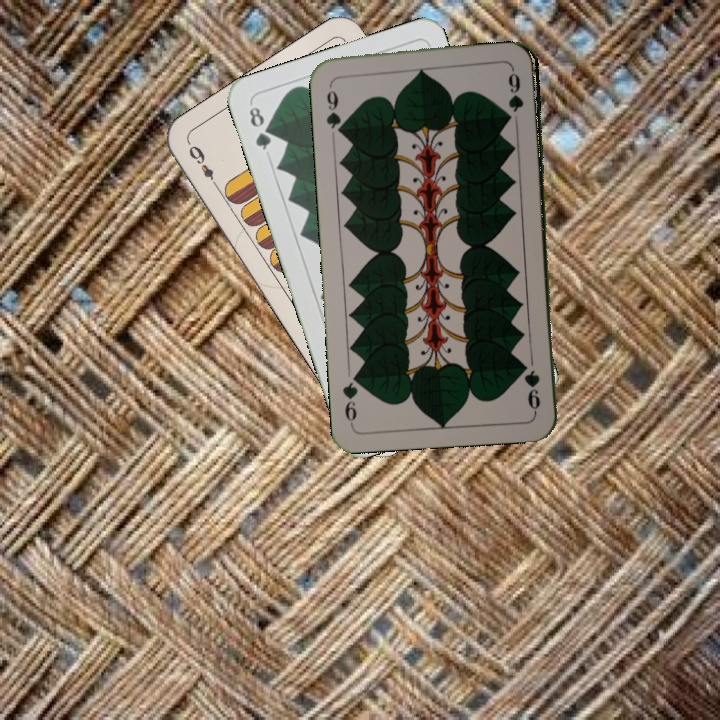E9: (184, 141, 222, 192)
G8: (245, 100, 274, 153)
G9: (322, 78, 346, 137), (521, 366, 543, 415)
